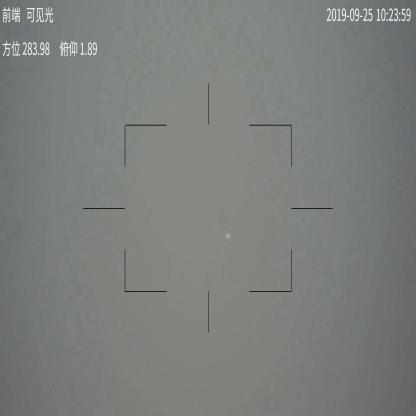uav: (224, 232, 232, 240)
